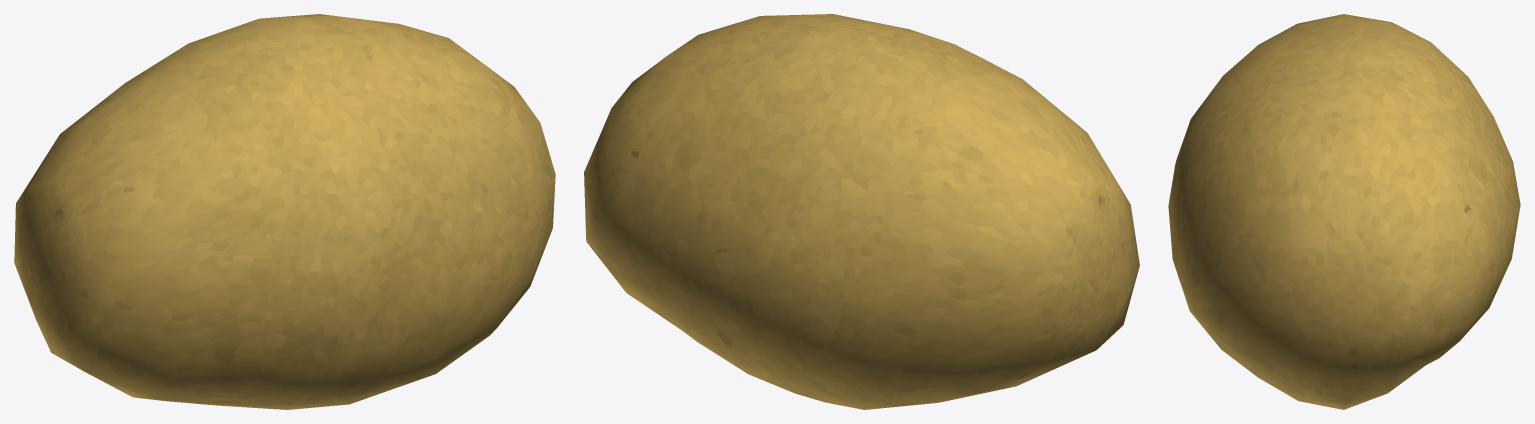
The model's file is prop_potato_mesh.fbx.
The picture shows the model from 3 angles, left to right: view 1: azimuth 30°, elevation 25°; view 2: azimuth 150°, elevation 25°; view 3: azimuth 270°, elevation 25°; orthographic projection. The views are drawn at different scales.
Visible parts, largest first — view 1: temp_potato; view 2: temp_potato; view 3: temp_potato.
Part boxes in pixels (bbox=[...]): temp_potato: bbox=[14, 14, 555, 409]; temp_potato: bbox=[584, 14, 1139, 409]; temp_potato: bbox=[1168, 14, 1520, 409].
Bounding box in the file's own units: 295 × 203 × 207.
